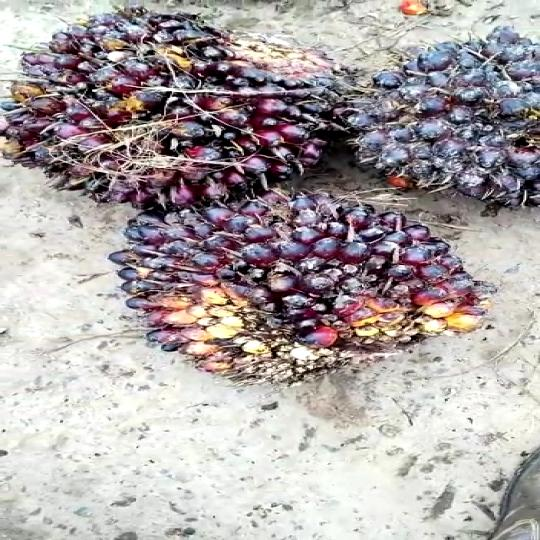kurang masak: (123, 179, 489, 402), (0, 16, 340, 218), (332, 33, 540, 218)
